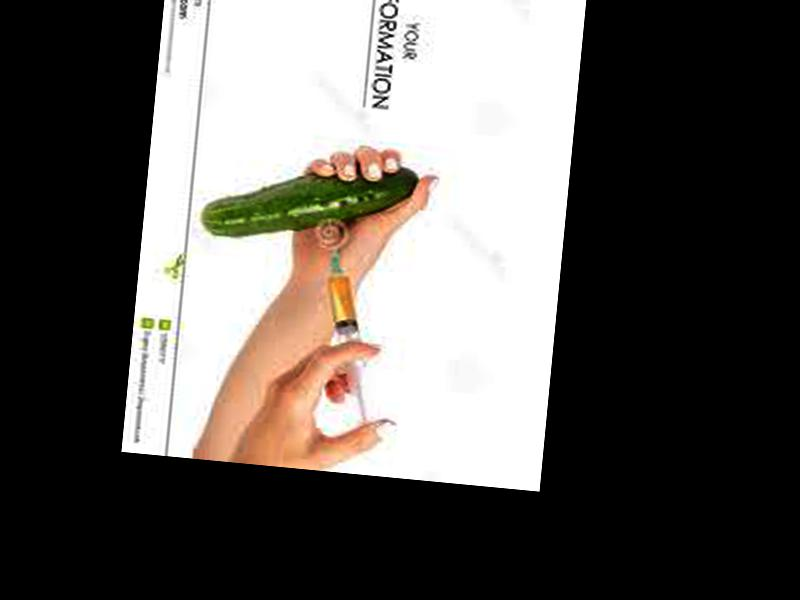Cucumber: (199, 149, 419, 254)
